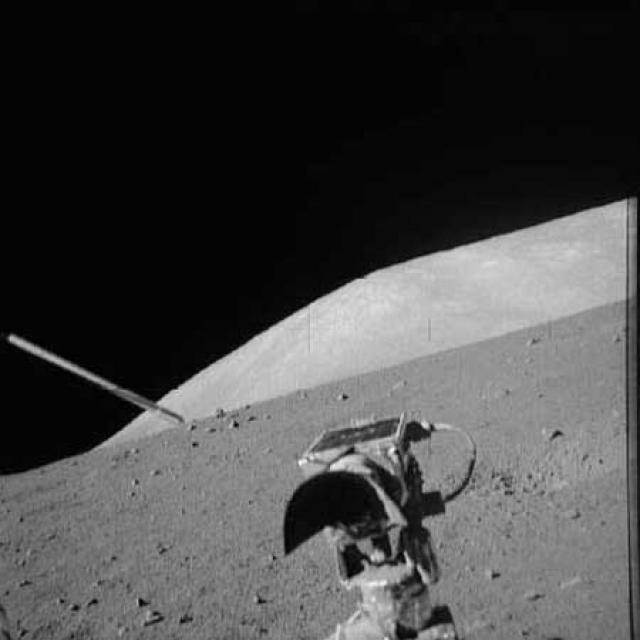artifact: (282, 408, 480, 640), (6, 329, 190, 441)
crater: (438, 413, 640, 508)
